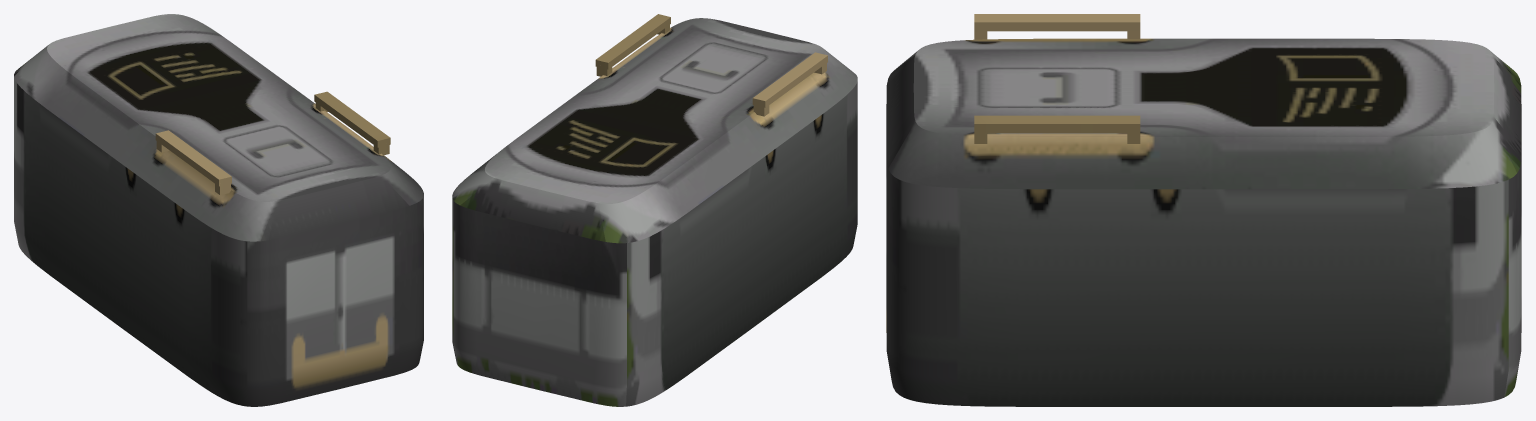
File: Building_CryptosleepCasket.obj
3 views of the same model, side by side, from view 1: azimuth 30°, elevation 25°; view 2: azimuth 150°, elevation 25°; view 3: azimuth 270°, elevation 25° (orthographic). The views are drawn at different scales.
Parts seen in each view (by area): view 1: Body; view 2: Body; view 3: Body.
Part boxes in pixels (x1=…): Body: x1=14, y1=14, x2=423, y2=406; Body: x1=452, y1=14, x2=857, y2=406; Body: x1=886, y1=14, x2=1521, y2=406.
Bounding box in the file's own units: 0.95 × 0.92 × 1.94.
1 material, 1 textured.
